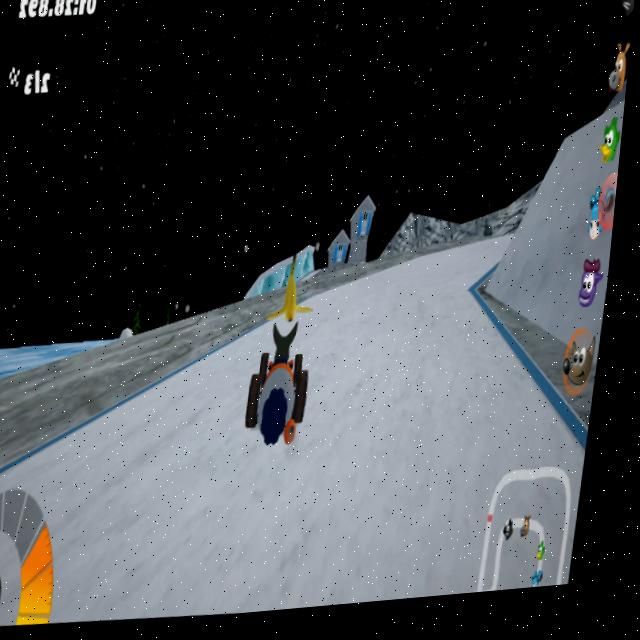obstacle: (274, 259, 322, 333)
player_kart: (239, 325, 331, 459)
track: (317, 252, 484, 513)
